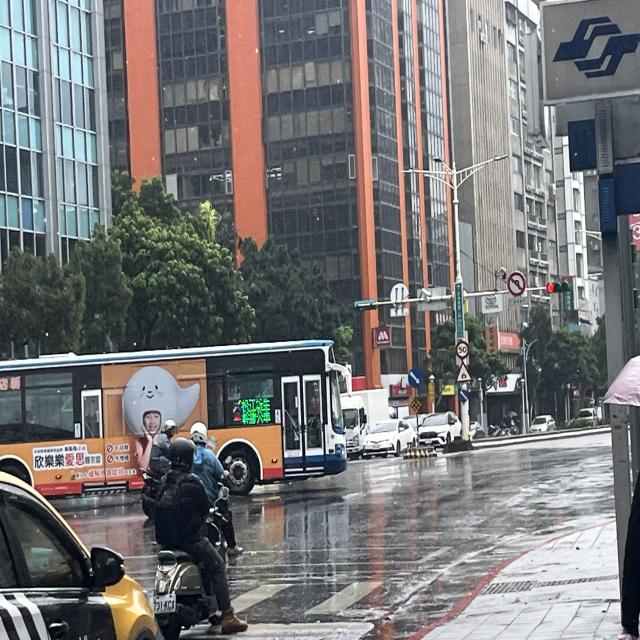red light: (548, 284, 572, 294)
